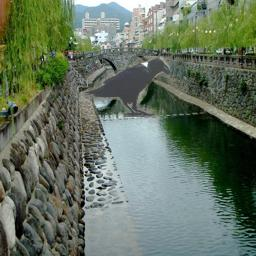Crow: (83, 56, 170, 117)
